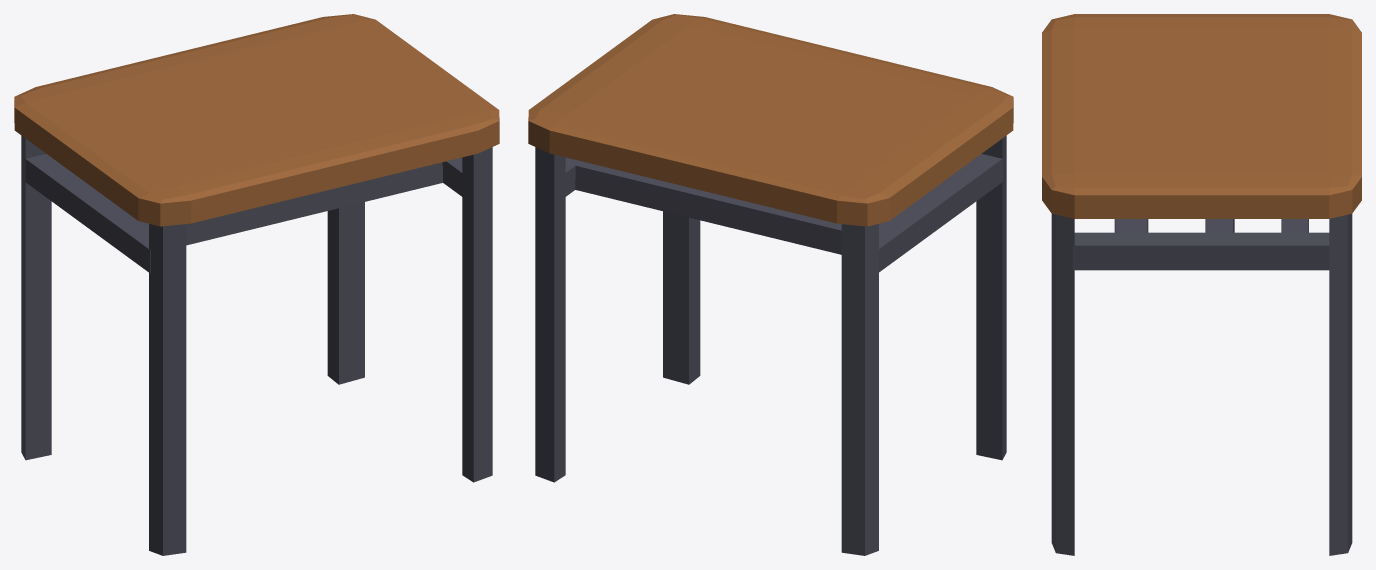
Rendered from mesaaluno.fbx.
3 views of the same model, side by side, from view 1: azimuth 30°, elevation 25°; view 2: azimuth 150°, elevation 25°; view 3: azimuth 270°, elevation 25° (orthographic). The views are drawn at different scales.
Parts seen in each view (by area): view 1: Cube.002; view 2: Cube.002; view 3: Cube.002.
Boxes of the visible parts, x1,y1,x2,y2 form: Cube.002: (14, 14, 499, 555); Cube.002: (528, 14, 1013, 555); Cube.002: (1042, 14, 1361, 555).
Size of the model in its own units: 831 by 791 by 619.
